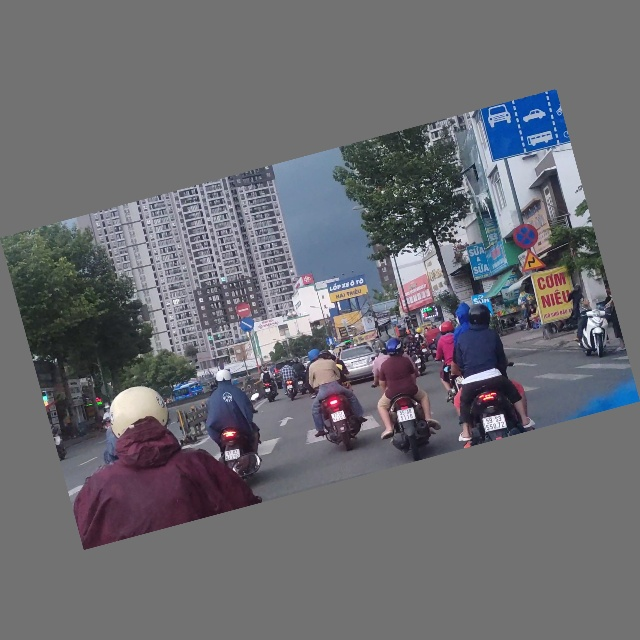I.407a: (326, 337, 335, 347)
I.434a: (389, 315, 399, 326)
P.102: (235, 302, 252, 319)
P.130: (510, 222, 540, 252)
R.302a: (239, 317, 256, 334)
R.415a: (479, 90, 571, 164)
W.202b: (518, 247, 547, 275)
